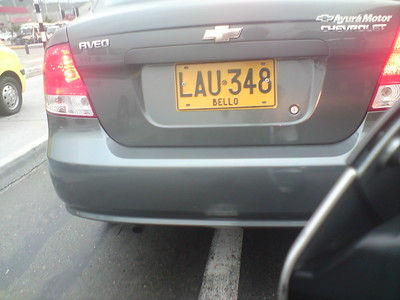placa_carro: (171, 54, 281, 115)
